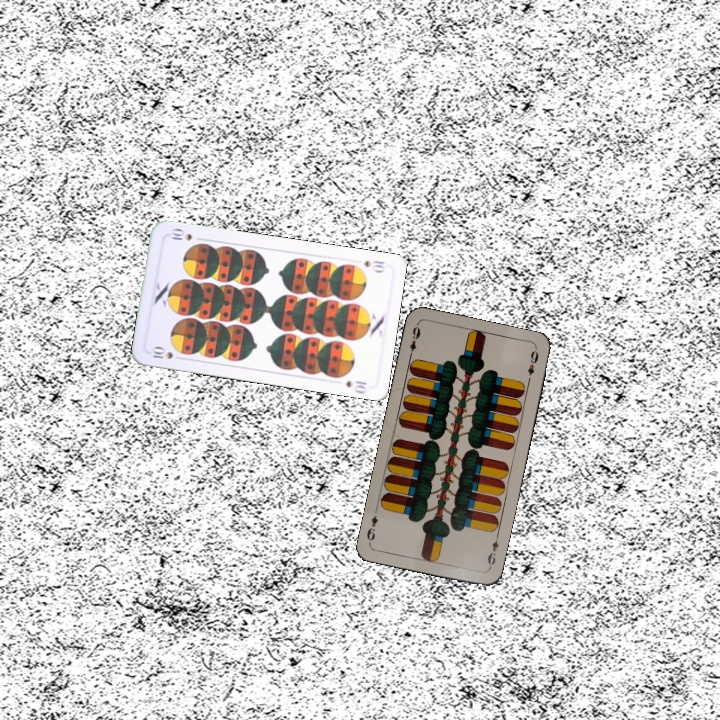E9: (483, 531, 501, 571), (405, 322, 423, 361)
S10: (147, 343, 186, 362), (360, 256, 387, 275)
